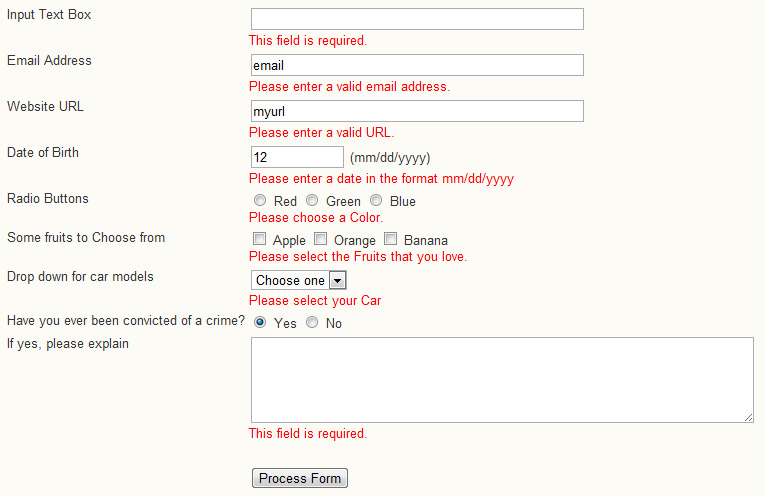error_message: (248, 170, 514, 186), (247, 79, 450, 93), (249, 250, 471, 262), (249, 210, 383, 225), (247, 293, 382, 307), (248, 125, 393, 138), (248, 426, 369, 441), (249, 33, 368, 47)
